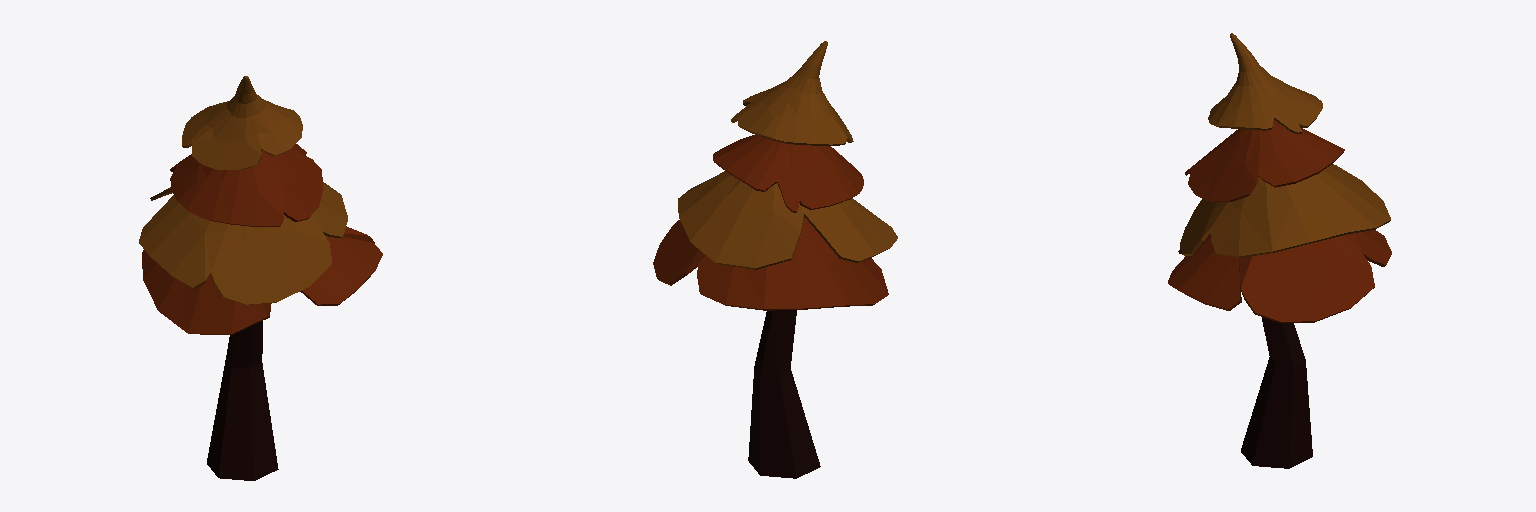
File: PineTree_Autumn_5.obj
The picture shows the model from 3 angles: view 1: azimuth 30°, elevation 25°; view 2: azimuth 150°, elevation 25°; view 3: azimuth 270°, elevation 25°; orthographic projection.
Parts seen in each view (by area): view 1: PineTree_Autumn_5_Cylinder.061; view 2: PineTree_Autumn_5_Cylinder.061; view 3: PineTree_Autumn_5_Cylinder.061.
Boxes of the visible parts, box(x1,y1,x2,y2) form: PineTree_Autumn_5_Cylinder.061: box(139, 76, 382, 480); PineTree_Autumn_5_Cylinder.061: box(653, 41, 897, 478); PineTree_Autumn_5_Cylinder.061: box(1168, 33, 1391, 468).
Bounding box in the file's own units: 1.47 × 2.69 × 1.34.